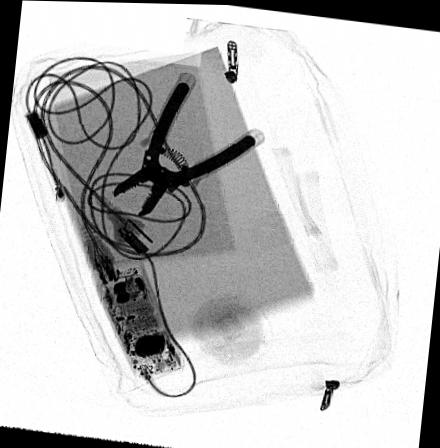Pliers: (112, 80, 260, 215)
